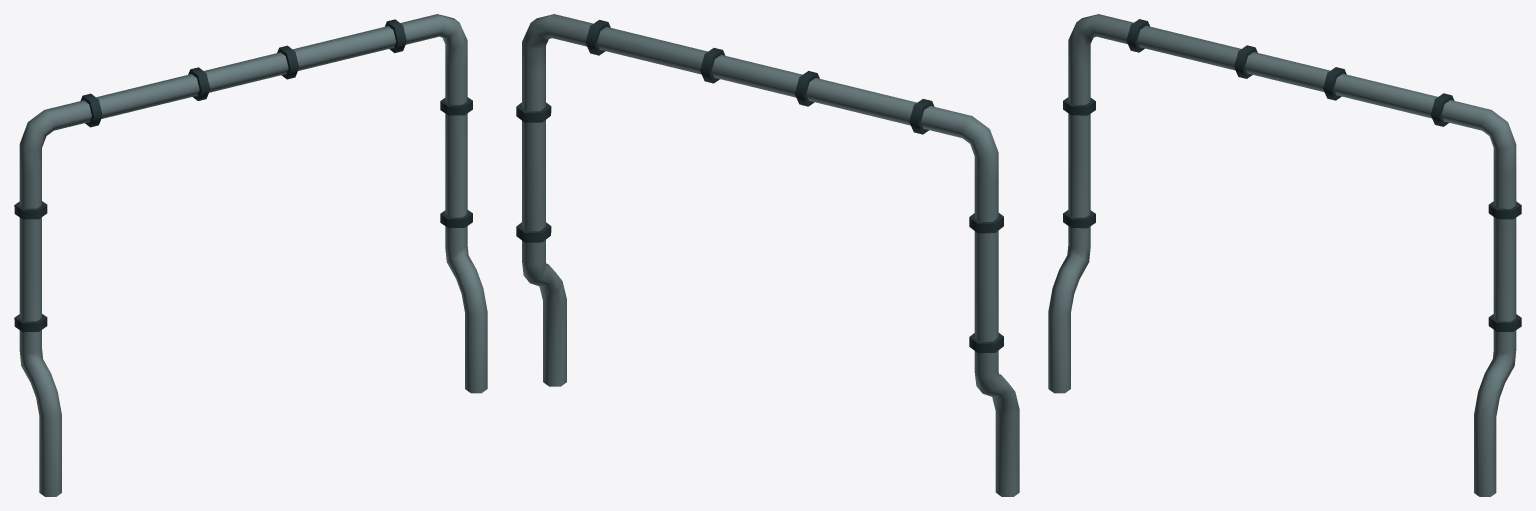
File: SM_Pipe_03.fbx
The picture shows the model from 3 angles, left to right: view 1: azimuth 30°, elevation 25°; view 2: azimuth 150°, elevation 25°; view 3: azimuth 330°, elevation 25°; orthographic projection. The views are drawn at different scales.
Visible parts, largest first — view 1: SM_Pipe_03; view 2: SM_Pipe_03; view 3: SM_Pipe_03.
Part boxes in pixels (box(x1,y1,x2,y2)): SM_Pipe_03: box(14, 14, 487, 496); SM_Pipe_03: box(516, 14, 1019, 496); SM_Pipe_03: box(1048, 14, 1521, 496).
Bounding box in the file's own units: 568 × 441 × 73.57.
Materials: 1 (1 with a texture image).
